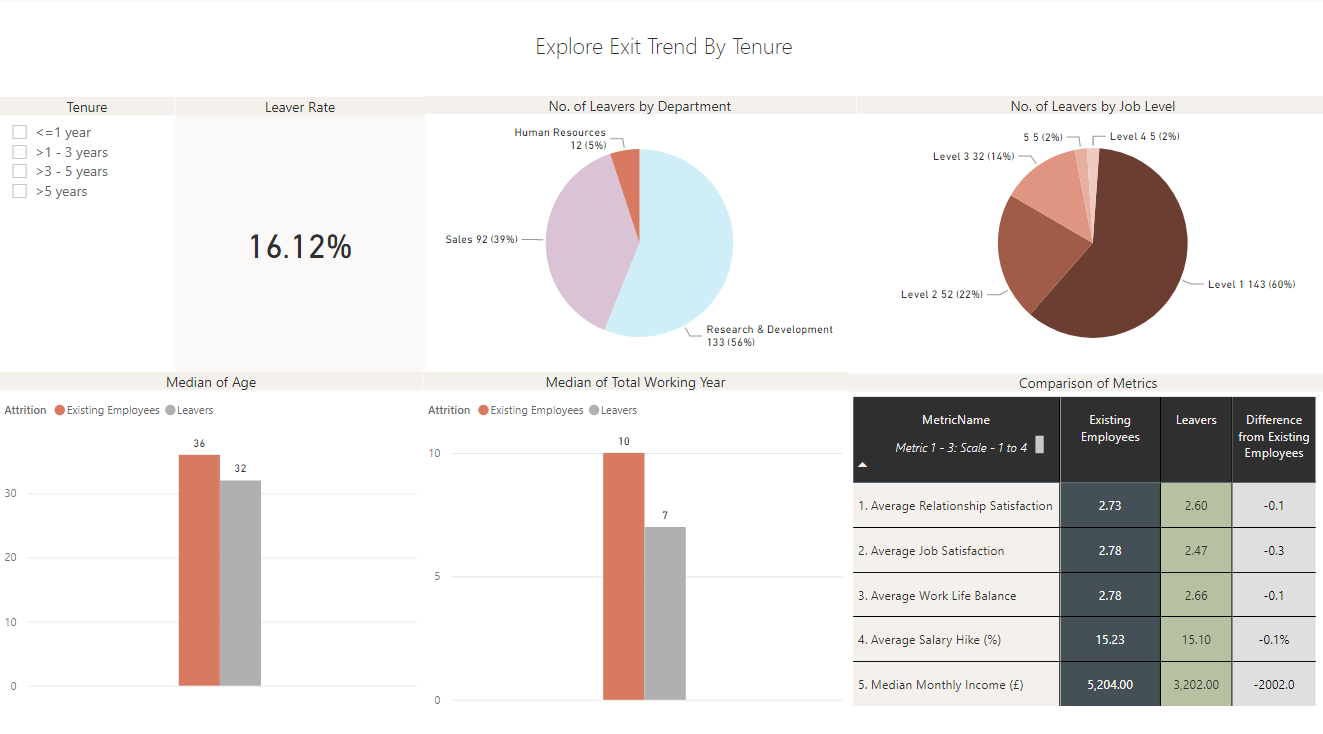

The page's visual inventory and layout, read from the dashboard file:
{"tool":"powerbi","page":{"name":"Explore Exit Trend","canvas":[1280,720],"ordinal":1},"visuals":[{"type":"card","title":"Leaver Rate","fields":{"Values":["HR Data_20250501.Atttrition Rate (%)"]},"box":[169,95.6,239.7,264.6],"z":0},{"type":"pieChart","title":"No. of Leavers by Department","fields":{"Category":["HR Data_20250501.Department"],"Y":["Sum(HR Data_20250501.EmployeeCount)"]},"box":[407.5,95,417.1,265.6],"z":1000},{"type":"clusteredColumnChart","title":"Median of Age","fields":{"Series":["HR Data_20250501.Attrition"],"Y":["Median(HR Data_20250501.Age)"]},"box":[0,360.6,407.5,314.9],"z":2000},{"type":"tableEx","title":"Comparison of Metrics","fields":{"Values":["MetricLabelTable.MetricName","HR Data_20250501.Selected_NonLeaver_Value","HR Data_20250501.Selected_Leaver_Value","HR Data_20250501.Selected_Diff_Value"]},"box":[815.4,361.4,464.6,357.8],"z":3000},{"type":"textbox","box":[0,26.4,1278.9,39.7],"z":4000},{"type":"pieChart","title":"No. of Leavers by Job Level","fields":{"Category":["HR Data_20250501.JobLevel"],"Y":["Sum(HR Data_20250501.EmployeeCount)"]},"box":[824.6,95,454.4,265.6],"z":5000},{"type":"clusteredColumnChart","title":"Median of Total Working Year","fields":{"Series":["HR Data_20250501.Attrition"],"Y":["Median(HR Data_20250501.TotalWorkingYears)"]},"box":[407.5,360.6,408.7,328.1],"z":6000},{"type":"textbox","box":[848.6,417.1,161.1,26.4],"z":7000},{"type":"slicer","title":"Tenure","fields":{"Values":["Legend_YearsInCompany.Legend_YearsInCompany"]},"box":[0,95.6,169,264.6],"z":8000}]}

Visuals, with their boxes in screenshot pixels (x1, y1, x2, y2), scaled from the page's 1280x720 canvas onto the 1323x734 screenshot:
"Leaver Rate" card: bbox(175, 97, 422, 367)
"No. of Leavers by Department" pieChart: bbox(421, 97, 852, 368)
"Median of Age" clusteredColumnChart: bbox(0, 368, 421, 689)
"Comparison of Metrics" tableEx: bbox(843, 368, 1322, 733)
textbox: bbox(0, 27, 1322, 67)
"No. of Leavers by Job Level" pieChart: bbox(852, 97, 1322, 368)
"Median of Total Working Year" clusteredColumnChart: bbox(421, 368, 844, 702)
textbox: bbox(877, 425, 1044, 452)
"Tenure" slicer: bbox(0, 97, 175, 367)
